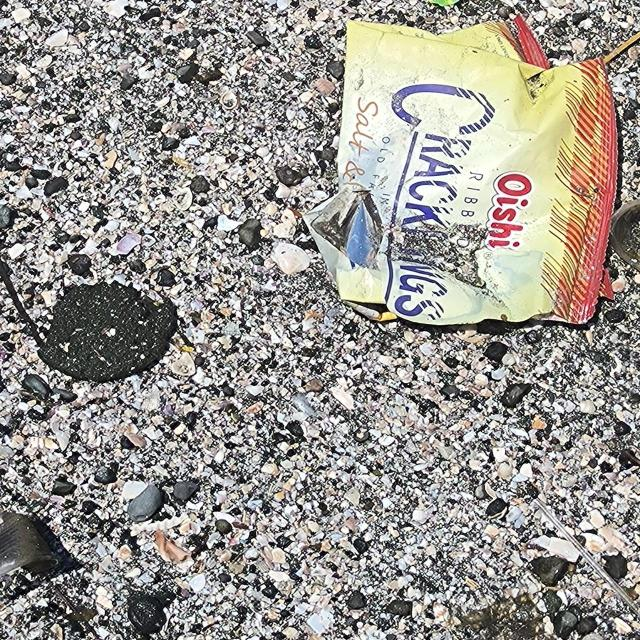plastic_waste: (338, 17, 619, 327)
